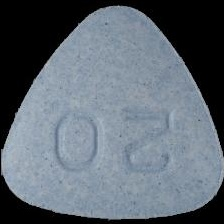0456-1420: (0, 0, 224, 224)
